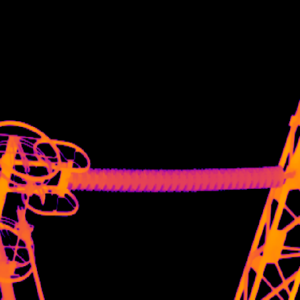insulator: (63, 163, 285, 192)
